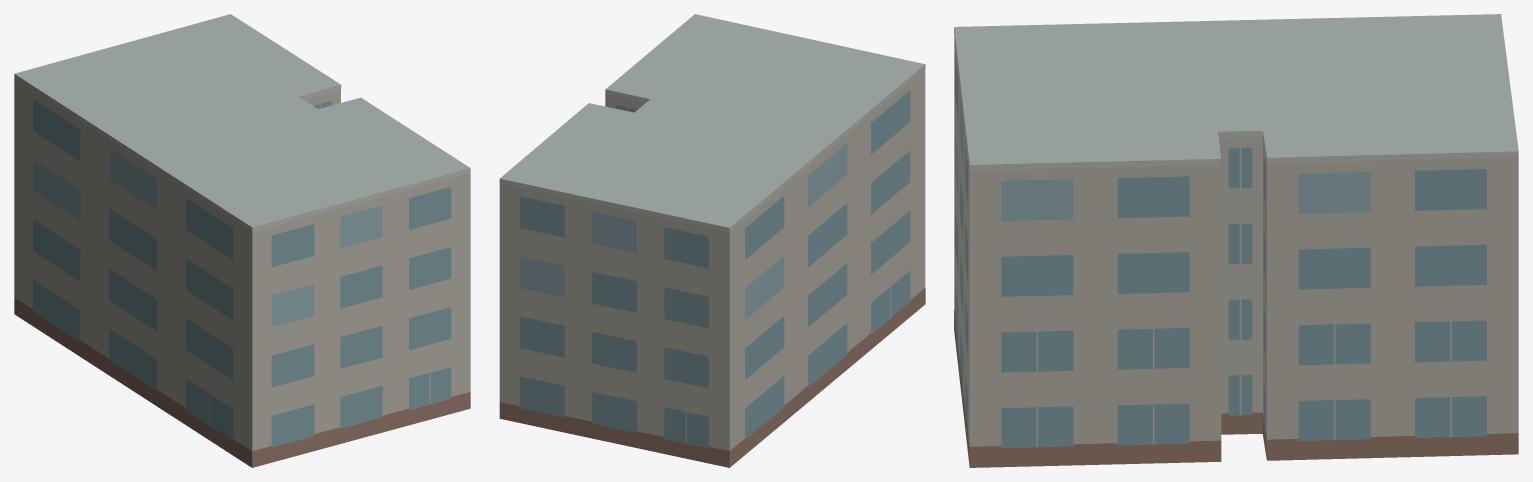
Rendered from survey-upis-32728544.glb.
3 views of the same model, side by side, from view 1: azimuth 30°, elevation 25°; view 2: azimuth 150°, elevation 25°; view 3: azimuth 270°, elevation 25° (orthographic). The views are drawn at different scales.
Visible parts, largest first — view 1: survey-upis-32728544.tmp; view 2: survey-upis-32728544.tmp; view 3: survey-upis-32728544.tmp.
Boxes of the visible parts, x1,y1,x2,y2 form: survey-upis-32728544.tmp: [14, 14, 470, 467]; survey-upis-32728544.tmp: [499, 14, 925, 467]; survey-upis-32728544.tmp: [954, 14, 1518, 467].
Bounding box in the file's own units: 13.05 × 12.2 × 20.62.
